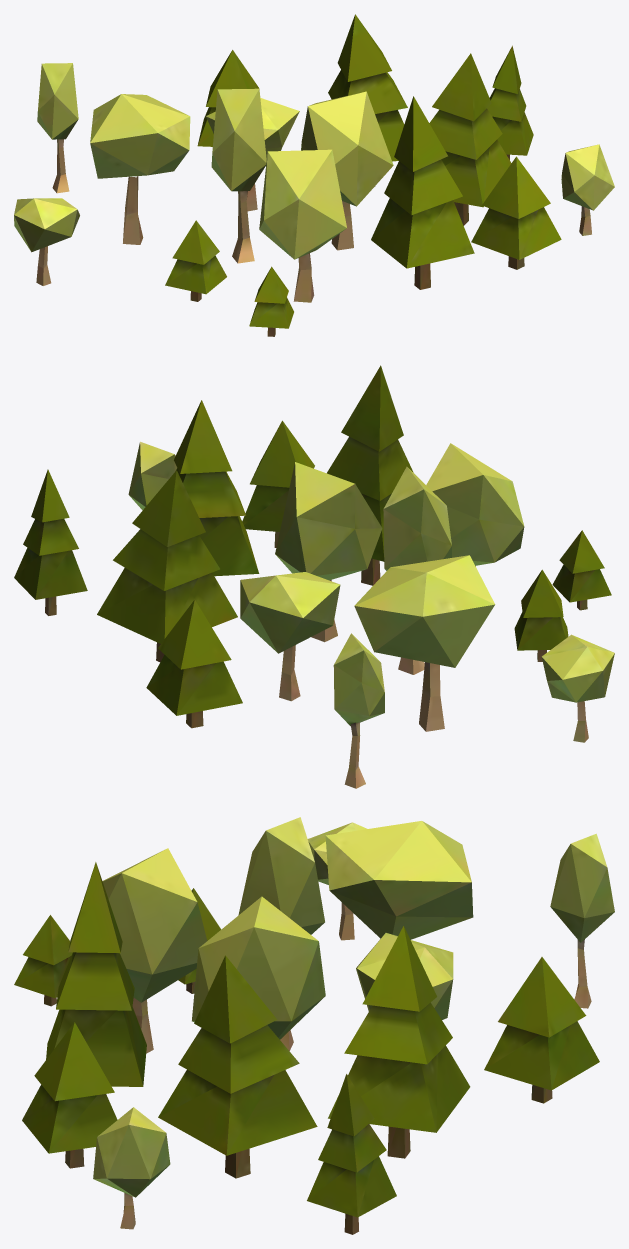
File: nature-forest-242.glb
The picture shows the model from 3 angles, top to bottom: view 1: azimuth 30°, elevation 25°; view 2: azimuth 150°, elevation 25°; view 3: azimuth 270°, elevation 25°; orthographic projection. The views are drawn at different scales.
Visible parts, largest first — view 1: forest; view 2: forest; view 3: forest.
Part boxes in pixels (<box>): forest: <box>14,14,614,336</box>; forest: <box>14,365,614,788</box>; forest: <box>14,817,614,1234</box>.
Size of the model in its own units: 2.78 by 0.9865 by 2.15.
Materials: 1 (1 with a texture image).
